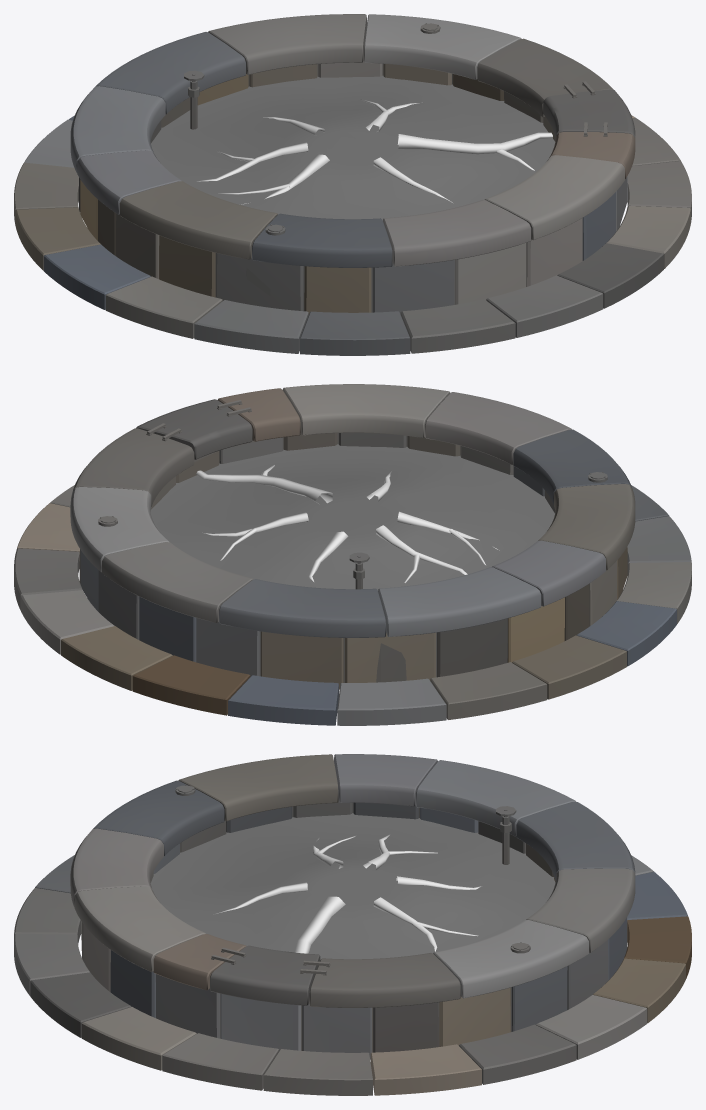
The model's file is TreeBed_Birch4b_LOD1.glb.
3 renders of one model, top to bottom at view 1: azimuth 30°, elevation 25°; view 2: azimuth 150°, elevation 25°; view 3: azimuth 270°, elevation 25°, orthographic.
Visible parts, largest first — view 1: TB_Birch4b_Ring_LOD1, TB_Birch4b_Apron_LOD1, TB_Birch4b_Soil_LOD1, TB_Birch4b_Roots_LOD1, TB_Birch4b_Metal_LOD1; view 2: TB_Birch4b_Ring_LOD1, TB_Birch4b_Apron_LOD1, TB_Birch4b_Soil_LOD1, TB_Birch4b_Roots_LOD1, TB_Birch4b_Metal_LOD1; view 3: TB_Birch4b_Ring_LOD1, TB_Birch4b_Apron_LOD1, TB_Birch4b_Soil_LOD1, TB_Birch4b_Roots_LOD1, TB_Birch4b_Metal_LOD1.
Part boxes in pixels (x1,y1,x2,y2): TB_Birch4b_Ring_LOD1: [70, 14, 635, 314]; TB_Birch4b_Apron_LOD1: [14, 115, 691, 355]; TB_Birch4b_Soil_LOD1: [151, 75, 555, 220]; TB_Birch4b_Roots_LOD1: [197, 99, 552, 204]; TB_Birch4b_Metal_LOD1: [184, 23, 607, 235]; TB_Birch4b_Ring_LOD1: [70, 384, 635, 689]; TB_Birch4b_Apron_LOD1: [14, 485, 691, 725]; TB_Birch4b_Soil_LOD1: [150, 444, 554, 590]; TB_Birch4b_Roots_LOD1: [196, 465, 499, 582]; TB_Birch4b_Metal_LOD1: [98, 400, 607, 589]; TB_Birch4b_Ring_LOD1: [70, 754, 635, 1059]; TB_Birch4b_Apron_LOD1: [14, 855, 691, 1095]; TB_Birch4b_Soil_LOD1: [150, 813, 555, 959]; TB_Birch4b_Roots_LOD1: [213, 834, 481, 953]; TB_Birch4b_Metal_LOD1: [175, 784, 530, 975].
Size of the model in its own units: 4.44 by 0.7406 by 4.44.
